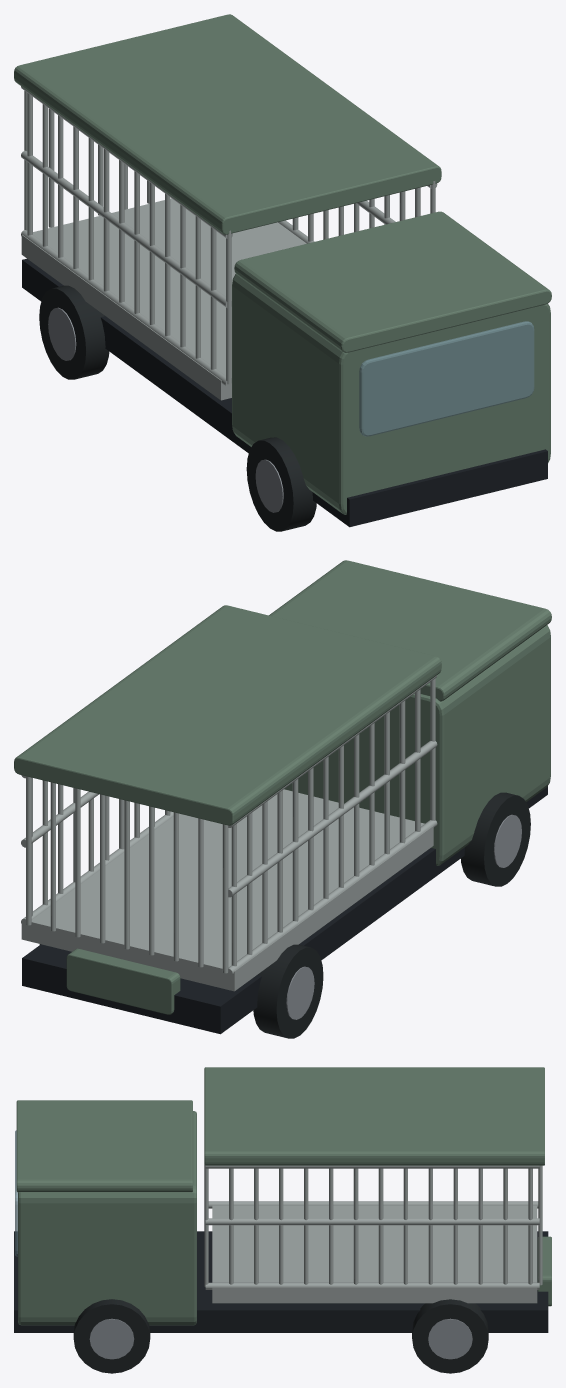
Rendered from vehicle-truck.glb.
The picture shows the model from 3 angles, top to bottom: view 1: azimuth 30°, elevation 25°; view 2: azimuth 150°, elevation 25°; view 3: azimuth 270°, elevation 25°; orthographic projection. The views are drawn at different scales.
Parts seen in each view (by area): view 1: cargo_roof, cab, cab_roof, cargo_floor, windscreen, chassis, cage_bar (×14), animal-rescue-truck, cage_frame (×2), rear_cage_door; view 2: cargo_roof, cargo_floor, cab, cab_roof, cage_bar (×16), chassis, animal-rescue-truck, rear_cage_door (×9), cage_frame (×4), compartment; view 3: cargo_roof, cargo_floor, cab, cab_roof, chassis, animal-rescue-truck, cage_bar (×14), cage_frame (×4), compartment, rear_cage_door.
Part boxes in pixels (x1=…): cargo_roof: x1=14, y1=14, x2=441, y2=234; cab: x1=232, y1=274, x2=550, y2=514; cab_roof: x1=234, y1=211, x2=551, y2=352; cargo_floor: x1=21, y1=198, x2=306, y2=400; windscreen: x1=359, y1=321, x2=534, y2=436; chassis: x1=22, y1=258, x2=547, y2=527; cage_bar (×14): x1=27, y1=93, x2=231, y2=384; animal-rescue-truck: x1=39, y1=285, x2=316, y2=531; cage_frame (×2): x1=21, y1=150, x2=231, y2=387; rear_cage_door: x1=48, y1=108, x2=54, y2=227; cargo_roof: x1=14, y1=605, x2=441, y2=825; cargo_floor: x1=21, y1=789, x2=433, y2=991; cab: x1=284, y1=625, x2=550, y2=865; cab_roof: x1=269, y1=560, x2=551, y2=701; cage_bar (×16): x1=42, y1=678, x2=435, y2=966; chassis: x1=22, y1=786, x2=547, y2=1034; animal-rescue-truck: x1=39, y1=792, x2=530, y2=1038; rear_cage_door (×9): x1=26, y1=776, x2=228, y2=973; cage_frame (×4): x1=21, y1=741, x2=437, y2=976; compartment: x1=66, y1=948, x2=180, y2=1014; cargo_roof: x1=204, y1=1067, x2=544, y2=1165; cargo_floor: x1=212, y1=1205, x2=537, y2=1303; cab: x1=18, y1=1111, x2=196, y2=1325; cab_roof: x1=16, y1=1100, x2=192, y2=1192; chassis: x1=14, y1=1231, x2=548, y2=1332; animal-rescue-truck: x1=73, y1=1299, x2=488, y2=1373; cage_bar (×14): x1=204, y1=1165, x2=532, y2=1286; cage_frame (×4): x1=205, y1=1165, x2=539, y2=1289; compartment: x1=537, y1=1236, x2=551, y2=1306; rear_cage_door: x1=538, y1=1165, x2=542, y2=1285.
Size of the model in its own units: 2.53 by 2.69 by 6.04.
